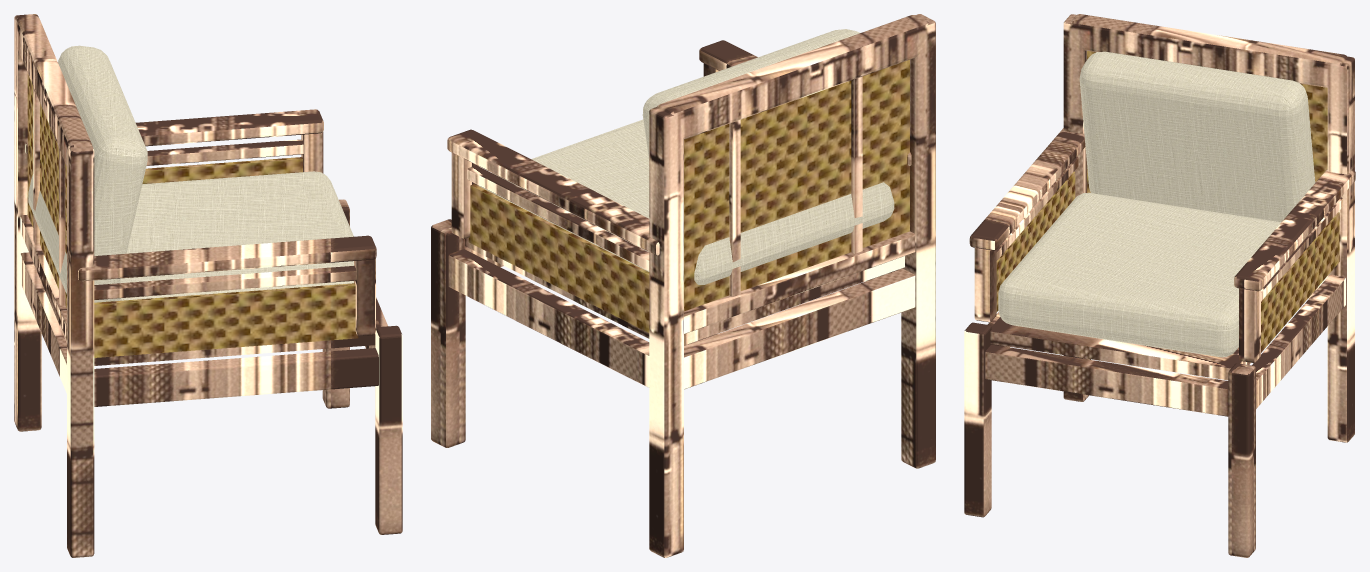
Rendered from liv-armchair-1.glb.
3 renders of one model, left to right at view 1: azimuth 30°, elevation 25°; view 2: azimuth 150°, elevation 25°; view 3: azimuth 270°, elevation 25°, orthographic. The views are drawn at different scales.
Parts seen in each view (by area): view 1: LM_Armchair1; view 2: LM_Armchair1; view 3: LM_Armchair1.
Boxes of the visible parts, x1=… form: LM_Armchair1: x1=14, y1=14, x2=402, y2=557; LM_Armchair1: x1=431, y1=14, x2=935, y2=557; LM_Armchair1: x1=964, y1=14, x2=1355, y2=557.
Size of the model in its own units: 0.874 by 0.925 by 0.8633.
Materials: 3 (2 with a texture image).
